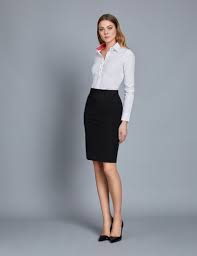F_shirt: (86, 47, 139, 118)
F_tailored skirt: (80, 87, 126, 164)
